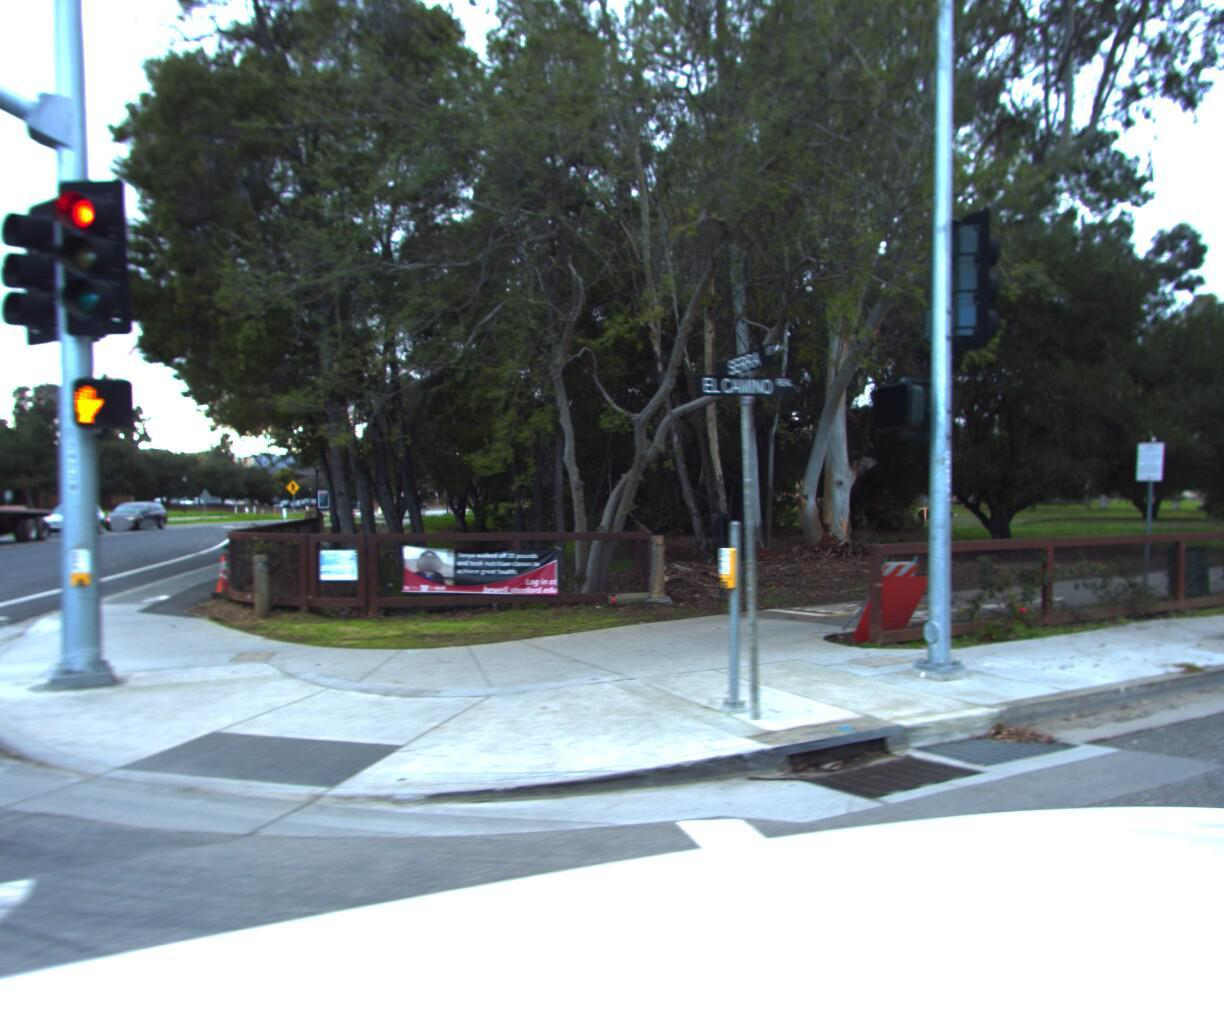car: (27, 499, 106, 537), (95, 506, 169, 534)
